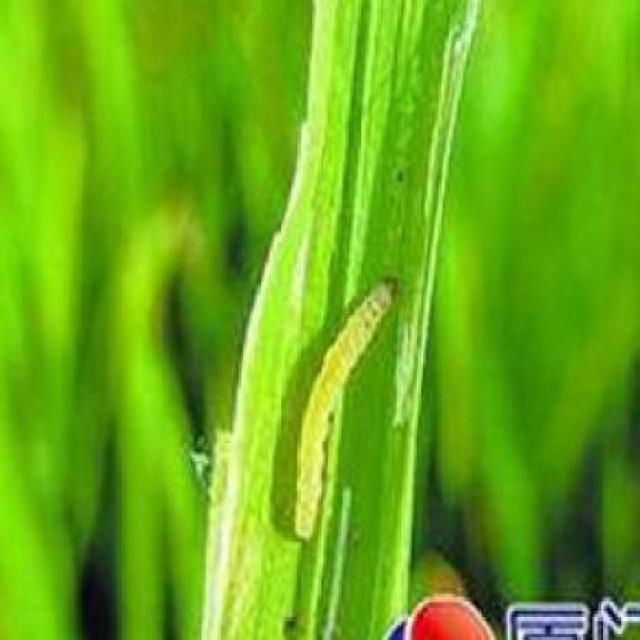leaf-folder: (252, 230, 417, 538)
